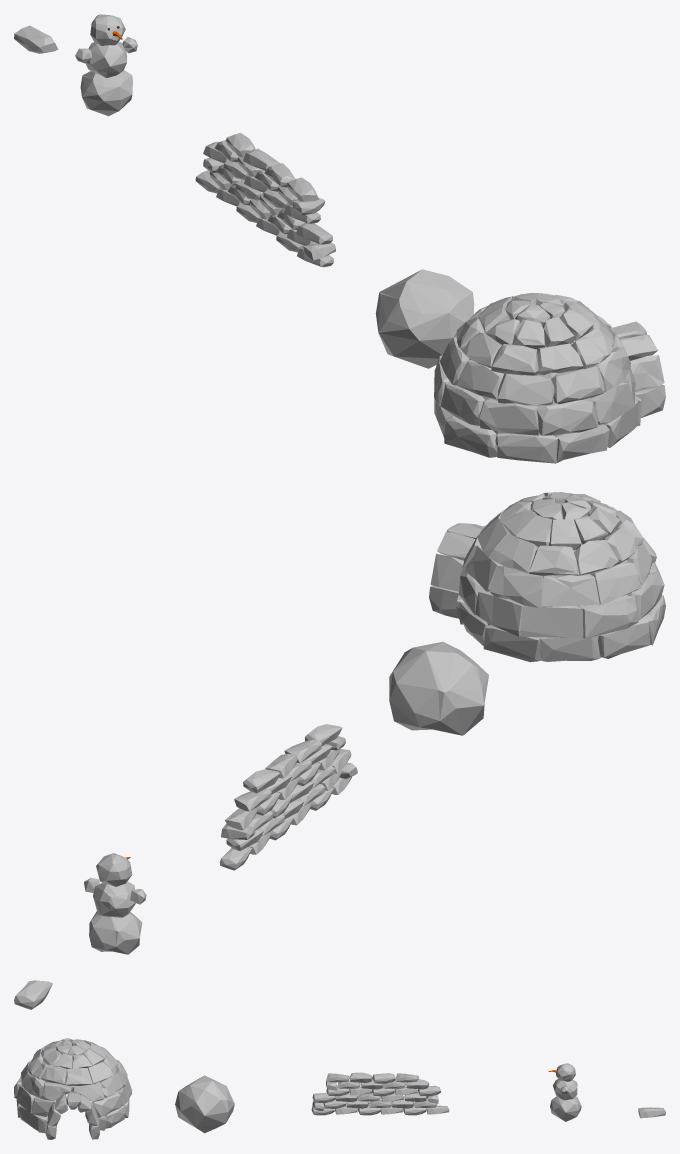
File: snow_object.fbx
3 renders of one model, top to bottom at view 1: azimuth 30°, elevation 25°; view 2: azimuth 150°, elevation 25°; view 3: azimuth 270°, elevation 25°, orthographic. The views are drawn at different scales.
Parts seen in each view (by area): view 1: igloo, snow_wall, snowball, snowman, brick; view 2: igloo, snow_wall, snowball, snowman, brick; view 3: igloo, snow_wall, snowball, snowman, brick.
Boxes of the visible parts, x1=… form: igloo: x1=434, y1=293, x2=665, y2=463; snow_wall: x1=195, y1=133, x2=335, y2=267; snowball: x1=375, y1=269, x2=474, y2=368; snowman: x1=75, y1=14, x2=137, y2=116; brick: x1=14, y1=25, x2=58, y2=53; igloo: x1=429, y1=492, x2=665, y2=662; snow_wall: x1=219, y1=724, x2=357, y2=870; snowball: x1=389, y1=641, x2=488, y2=735; snowman: x1=84, y1=853, x2=146, y2=954; brick: x1=14, y1=980, x2=52, y2=1009; igloo: x1=14, y1=1038, x2=131, y2=1139; snow_wall: x1=311, y1=1072, x2=449, y2=1115; snowball: x1=175, y1=1075, x2=234, y2=1133; snowman: x1=548, y1=1063, x2=581, y2=1121; brick: x1=638, y1=1107, x2=665, y2=1118.
Bounding box in the file's own units: 3.42 × 2.41 × 17.01.
